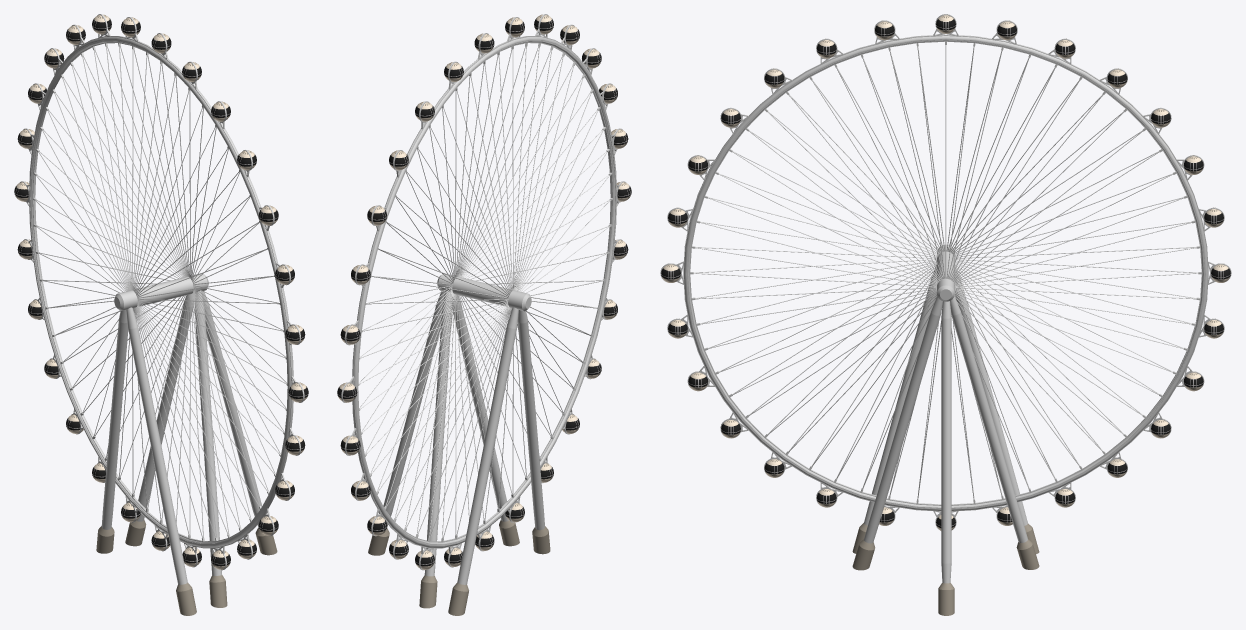
Rendered from HighRollerLasVegas.dae.
The picture shows the model from 3 angles, left to right: view 1: azimuth 30°, elevation 25°; view 2: azimuth 150°, elevation 25°; view 3: azimuth 270°, elevation 25°; orthographic projection.
Visible parts, largest first — view 1: Component_1 (×8), Component_4 (×5), Component_9, Component_5; view 2: Component_1 (×8), Component_4 (×5), Component_9, Component_5; view 3: Component_4 (×3), Component_1 (×4), Component_9, Component_5.
Boxes of the visible parts, x1,y1,x2,y2 form: Component_1 (×8): (96,290,227,615); Component_4 (×5): (29,36,292,548); Component_9: (202,291,262,527); Component_5: (114,273,208,310); Component_1 (×8): (419,291,550,615); Component_4 (×5): (352,36,616,548); Component_9: (383,291,444,527); Component_5: (437,273,531,311); Component_4 (×3): (683,34,1208,511); Component_1 (×4): (864,265,1027,543); Component_9: (941,301,951,583); Component_5: (937,244,954,301).
Bounding box in the file's own units: 2190 × 6788 × 7152.
